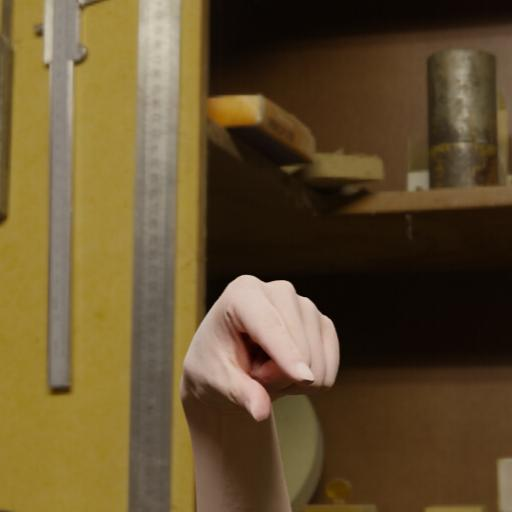Q: (156, 247, 386, 474)
